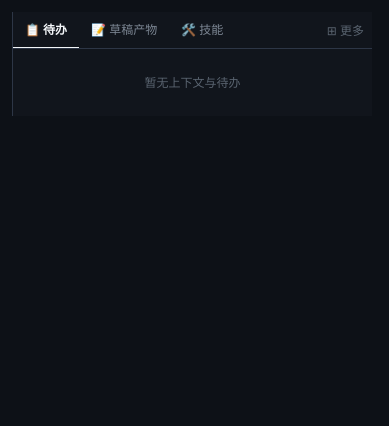
Test: T-1026 Escape 关闭菜单；再次「更多」可重开
The image size is (389, 426).
Click the button titled "更多面板（低频页签聚合）" at (345, 30), box 319,14 -> 372,46
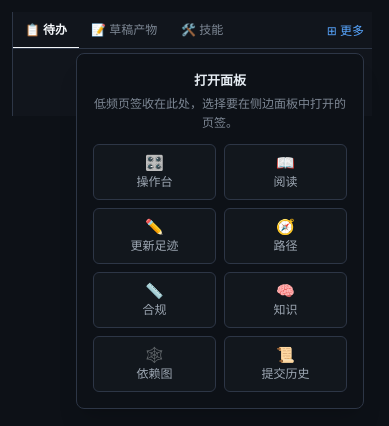
Check: the element with test id "more-panels-menu" is shown
Press Escape
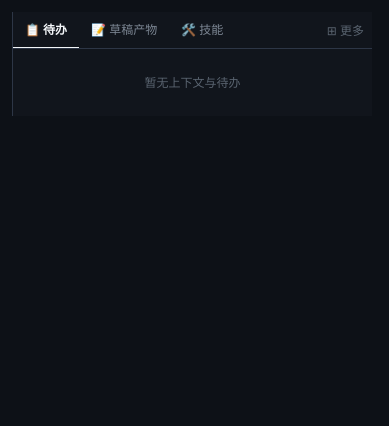
Check: the element with test id "more-panels-menu" is gone
Click the button titled "更多面板（低频页签聚合）" at (345, 30), box 319,14 -> 372,46
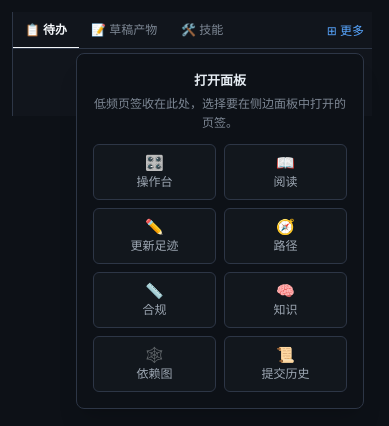
Check: the element with test id "more-panels-menu" is shown
